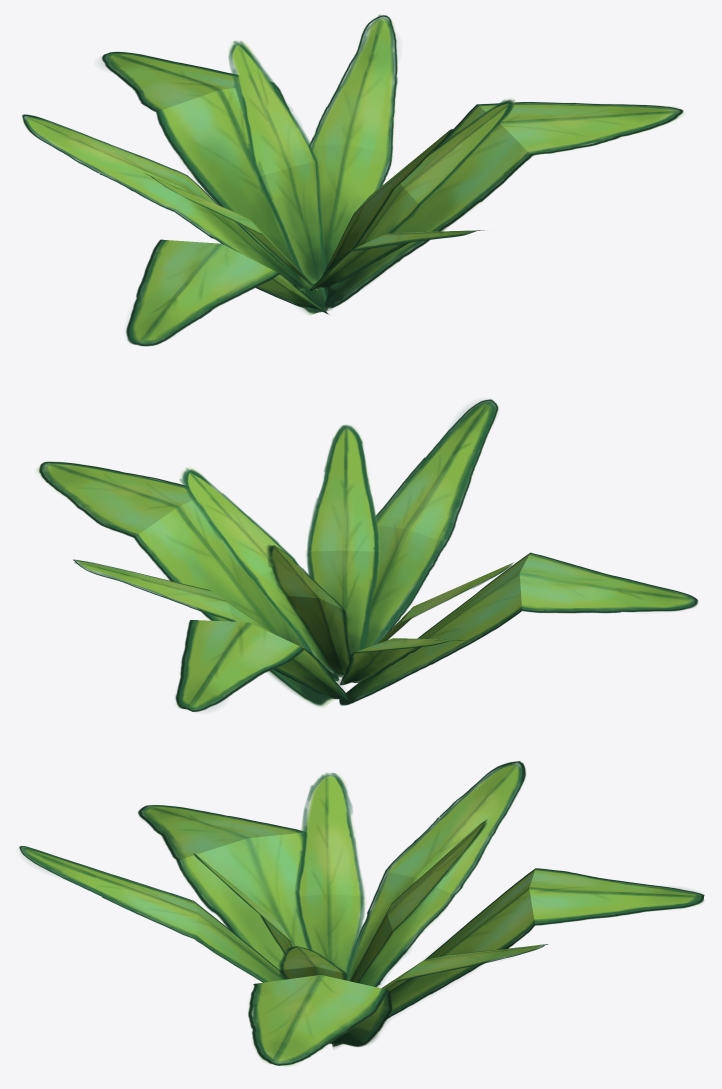
Rendered from leaves.glb.
3 renders of one model, top to bottom at view 1: azimuth 30°, elevation 25°; view 2: azimuth 150°, elevation 25°; view 3: azimuth 270°, elevation 25°, orthographic. The views are drawn at different scales.
Visible parts, largest first — view 1: Small Plant; view 2: Small Plant; view 3: Small Plant.
Part boxes in pixels (x1,y1,x2,y2): Small Plant: (22,14,683,346); Small Plant: (37,399,698,711); Small Plant: (19,761,704,1065).
Size of the model in its own units: 0.2973 by 0.1004 by 0.2766.
Materials: 1 (1 with a texture image).
